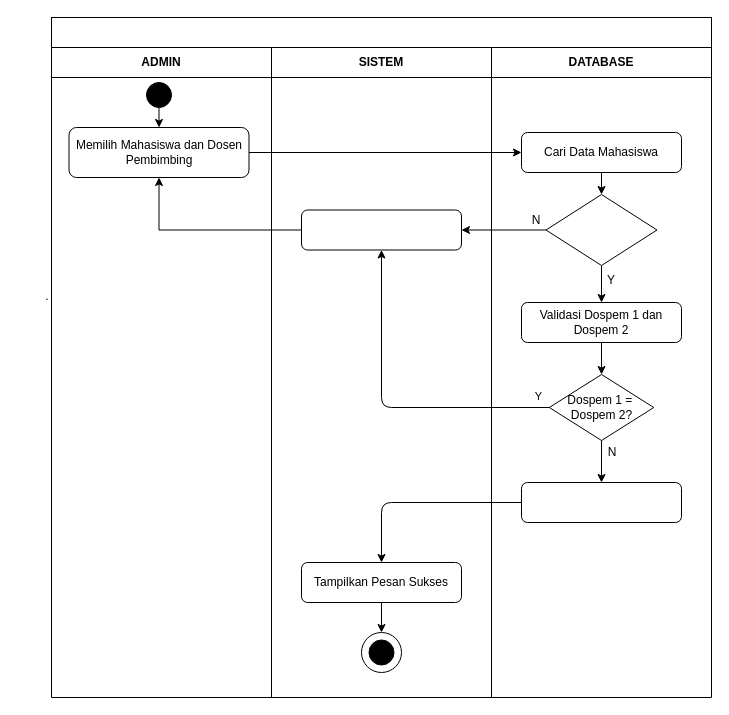
The diagram is 729 pixels wide and 715 high, and some of its shapes have lost their labels. Each missing label, with the centre of its shape:
"ADMIN PLOTTING DOSEN PEMBIMBING" belongs at (381,32).
"Role = Mahasiswa?" belongs at (601,230).
"Tampilkan Pesan Error" belongs at (381,229).
"Update Data Mahasiswa" belongs at (601,502).
